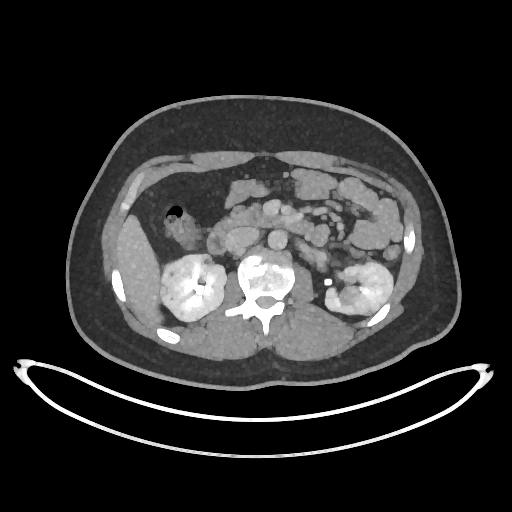Lesion: (336, 284, 365, 318)
